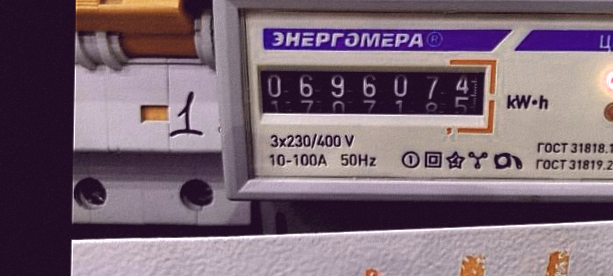0: (264, 72, 284, 98), (391, 72, 409, 98)
4: (453, 72, 470, 94)
5: (453, 95, 469, 115)
6: (359, 71, 378, 98), (296, 72, 315, 97)
7: (423, 73, 440, 99)
9: (328, 71, 345, 98)
screen: (246, 52, 500, 137)
